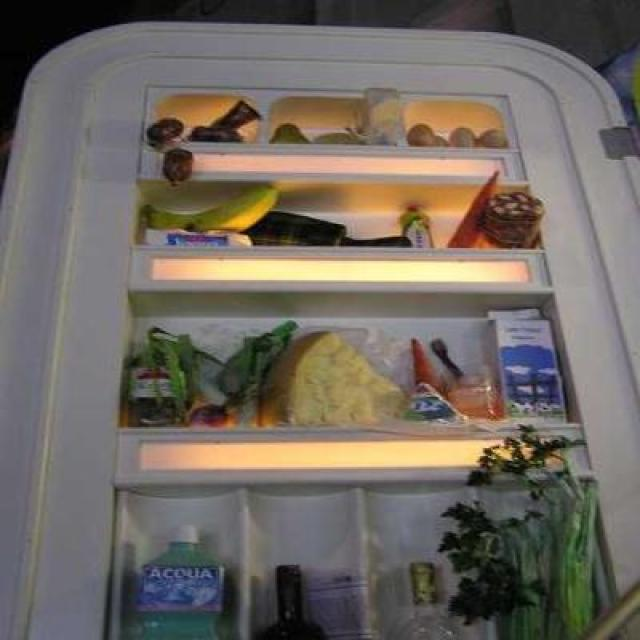refrigerator: (73, 56, 614, 640)
